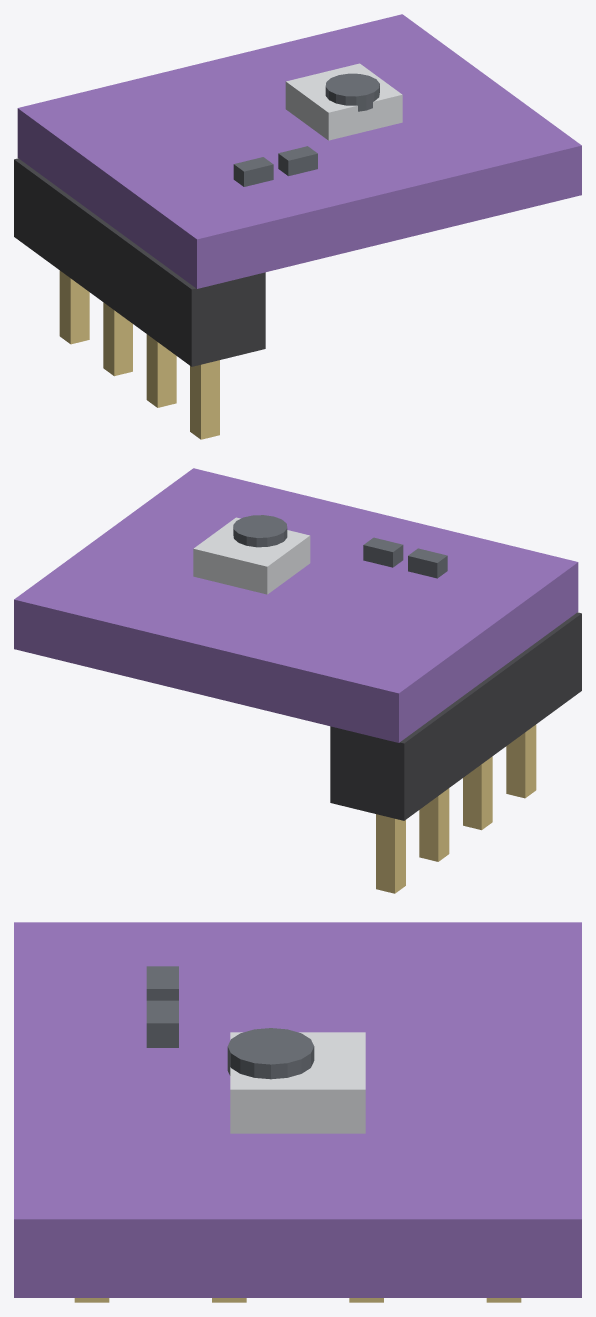
The model's file is bme280.glb.
The picture shows the model from 3 angles, top to bottom: view 1: azimuth 30°, elevation 25°; view 2: azimuth 150°, elevation 25°; view 3: azimuth 270°, elevation 25°; orthographic projection. The views are drawn at different scales.
Parts seen in each view (by area): view 1: bme280_1_pcb_purple, bme280_10_plastic_black, bme280_2_shield, bme280_9_gold, bme280_6_gold, bme280_8_gold, bme280_7_gold, bme280_3_dark, bme280_4_dark, bme280_5_dark; view 2: bme280_1_pcb_purple, bme280_10_plastic_black, bme280_2_shield, bme280_6_gold, bme280_9_gold, bme280_7_gold, bme280_8_gold, bme280_3_dark, bme280_5_dark, bme280_4_dark; view 3: bme280_1_pcb_purple, bme280_2_shield, bme280_3_dark, bme280_5_dark, bme280_4_dark.
Boxes of the visible parts, x1=… form: bme280_1_pcb_purple: x1=17, y1=14, x2=581, y2=288; bme280_10_plastic_black: x1=14, y1=158, x2=265, y2=366; bme280_2_shield: x1=285, y1=63, x2=402, y2=140; bme280_9_gold: x1=190, y1=360, x2=219, y2=439; bme280_6_gold: x1=59, y1=270, x2=89, y2=344; bme280_8_gold: x1=146, y1=334, x2=176, y2=407; bme280_7_gold: x1=103, y1=302, x2=132, y2=376; bme280_3_dark: x1=325, y1=73, x2=379, y2=111; bme280_4_dark: x1=233, y1=157, x2=273, y2=186; bme280_5_dark: x1=278, y1=146, x2=317, y2=176; bme280_1_pcb_purple: x1=14, y1=468, x2=578, y2=742; bme280_10_plastic_black: x1=330, y1=612, x2=581, y2=820; bme280_2_shield: x1=193, y1=517, x2=310, y2=594; bme280_6_gold: x1=376, y1=814, x2=405, y2=893; bme280_9_gold: x1=506, y1=724, x2=536, y2=798; bme280_7_gold: x1=419, y1=788, x2=449, y2=861; bme280_8_gold: x1=463, y1=756, x2=492, y2=830; bme280_3_dark: x1=233, y1=515, x2=287, y2=547; bme280_5_dark: x1=363, y1=537, x2=403, y2=567; bme280_4_dark: x1=408, y1=548, x2=447, y2=578; bme280_1_pcb_purple: x1=14, y1=922, x2=581, y2=1297; bme280_2_shield: x1=230, y1=1032, x2=365, y2=1133; bme280_3_dark: x1=227, y1=1028, x2=314, y2=1079; bme280_5_dark: x1=146, y1=1000, x2=178, y2=1047; bme280_4_dark: x1=146, y1=966, x2=178, y2=1000.
Size of the model in its own units: 13.15 by 8.3 by 10.5.
